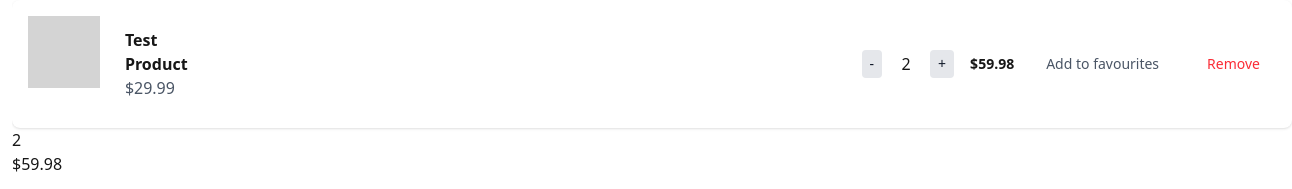
Test: CartItem › Button Functionality › decrements quantity when minus button is clicked
What coordinates should you click on to do the following:
click the button "-"
I would click on:
 (872, 64)
Its box is x1=862 y1=50 x2=882 y2=78.
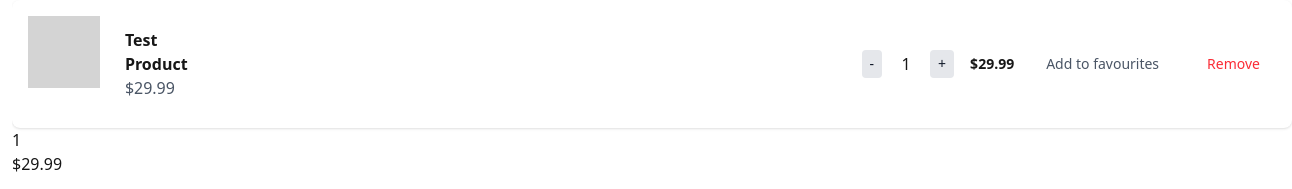
Now the text with test id "item-quantity" reads "1", box x1=902 y1=53 x2=911 y2=75
